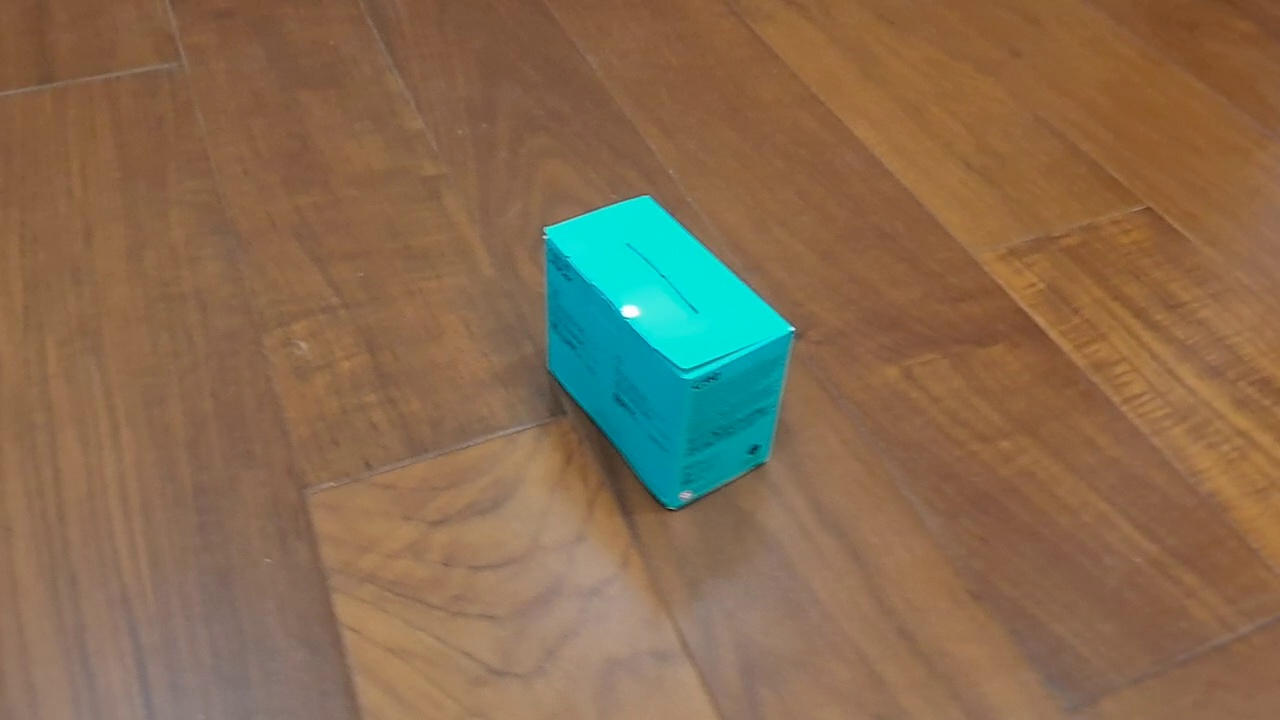webcam: (541, 193, 798, 514)
